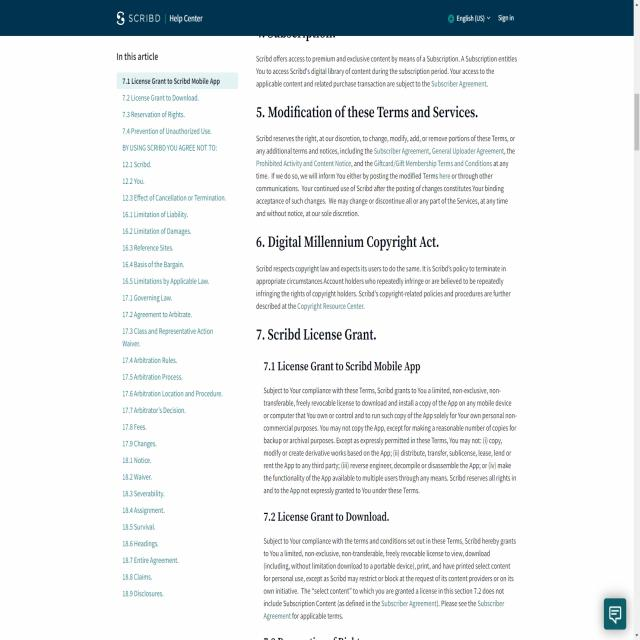content: (114, 66, 242, 610)
menu-bar: (441, 6, 521, 28)
